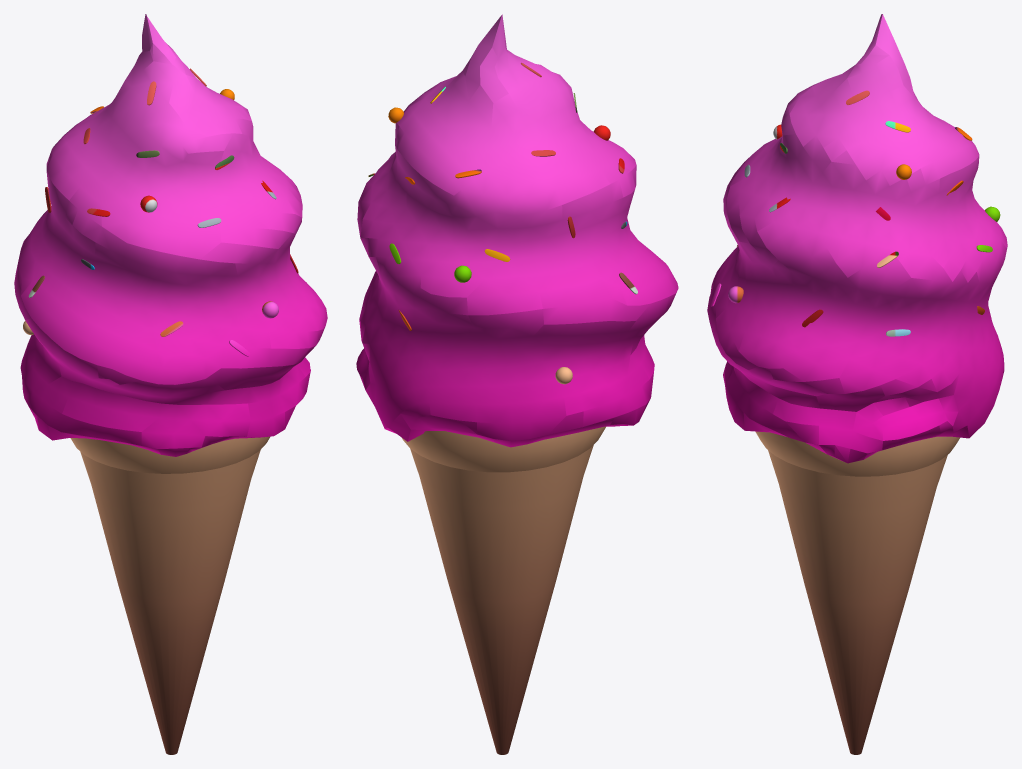
The model's file is Ice scream.fbx.
3 renders of one model, left to right at view 1: azimuth 30°, elevation 25°; view 2: azimuth 150°, elevation 25°; view 3: azimuth 270°, elevation 25°, orthographic. The views are drawn at different scales.
Visible parts, largest first — view 1: Ice _Scream; view 2: Ice _Scream; view 3: Ice _Scream.
Part boxes in pixels (left/top/right/bottom): Ice _Scream: left=14, top=14, right=327, bottom=754; Ice _Scream: left=356, top=14, right=678, bottom=754; Ice _Scream: left=707, top=14, right=1007, bottom=754.
Bounding box in the file's own units: 623 × 1616 × 601.
